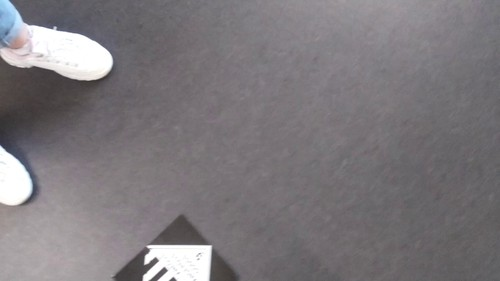misgoods: (140, 239, 211, 281)
